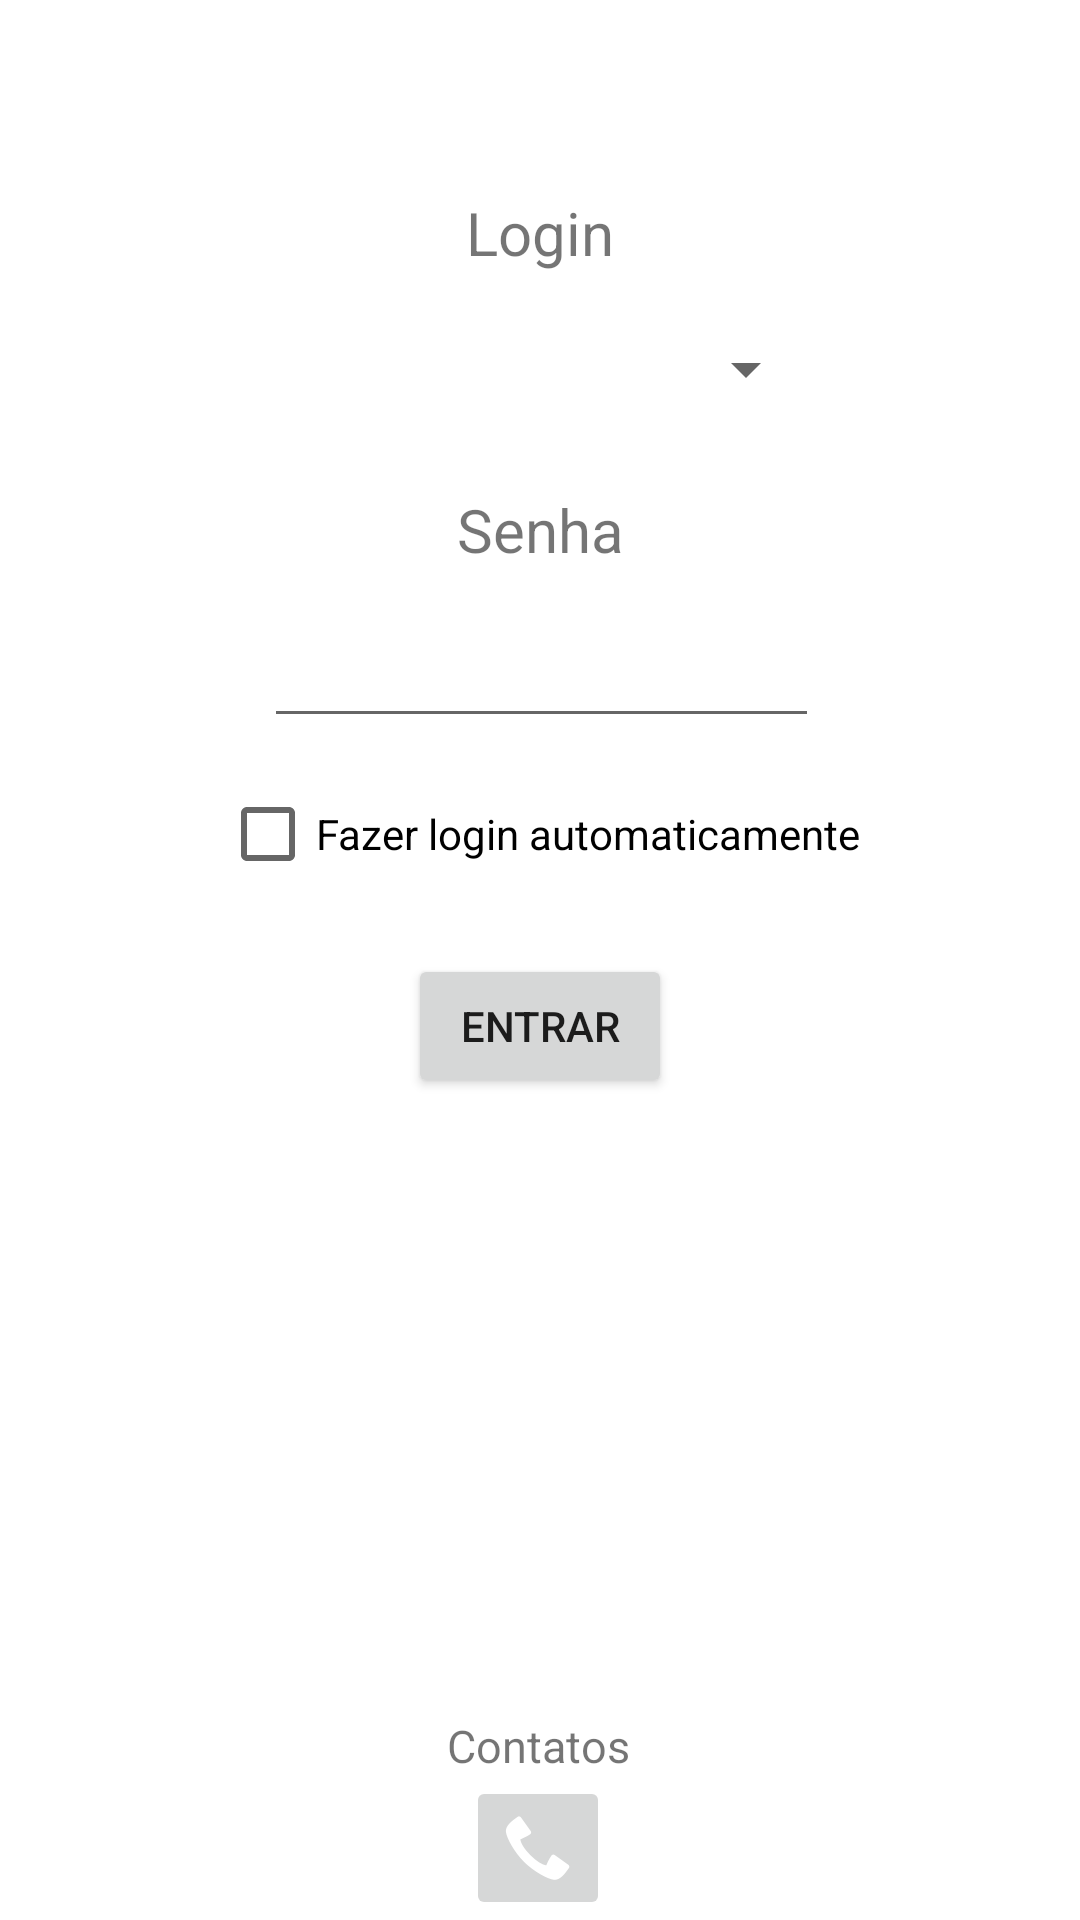

Where to tap for icons on this 1080x1920 app screen, as (x=x, y=y):
phone call: (x=538, y=1848)
